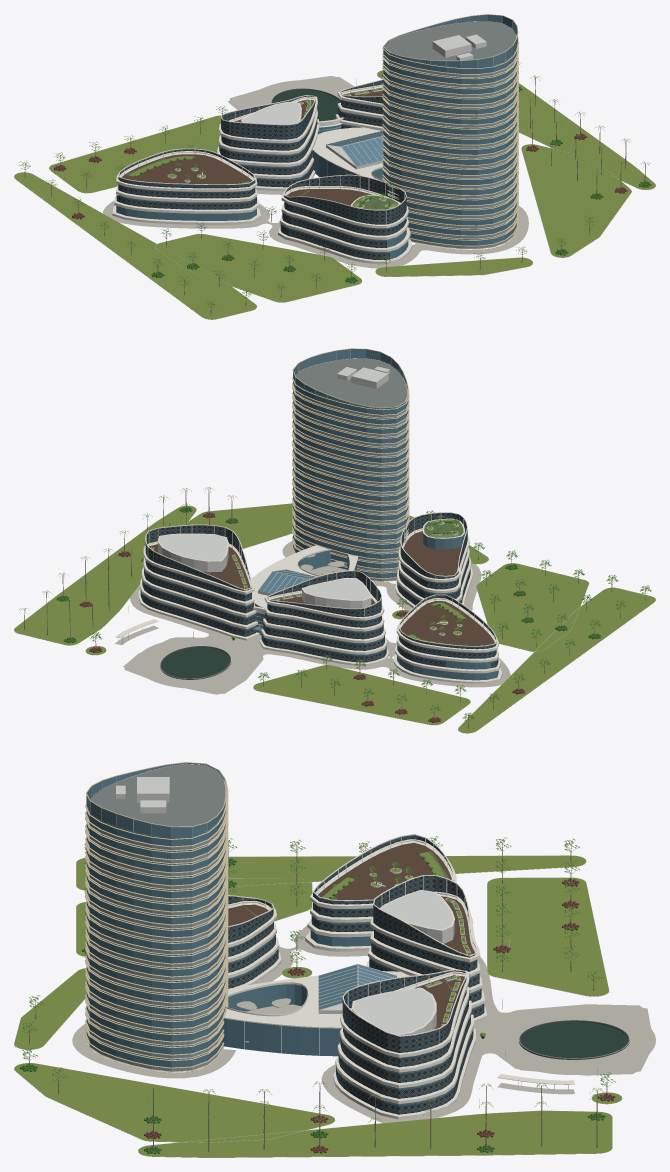
File: library-lod2.glb
The picture shows the model from 3 angles, top to bottom: view 1: azimuth 30°, elevation 25°; view 2: azimuth 150°, elevation 25°; view 3: azimuth 270°, elevation 25°; orthographic projection. The views are drawn at different scales.
Visible parts, largest first — view 1: Landscape connected lawns | landscape lawn.002, Tower horizontal fins | champagne fins.002, Tower glazing | blue grey glass light.002, Tower spandrel panels | grey spandrel.002, Tower glazing | blue grey glass.002, Landscape forecourt paving | warm limestone.002, Tower glazing | blue grey glass dark.002, Petal right-garden | warm ceramic.002, Tower roof | roof gravel.002, Petal rear-garden | warm ceramic.002, Petal rear-garden roof screen | distant baked screen, Petal rear-garden screen | distant baked screen (+25 smaller); view 2: Landscape connected lawns | landscape lawn.002, Tower horizontal fins | champagne fins.002, Landscape forecourt paving | warm limestone.002, Tower glazing | blue grey glass light.002, Tower glazing | blue grey glass.002, Tower spandrel panels | grey spandrel.002, Petal front-right screen | distant baked screen, Petal front-left screen | distant baked screen, Tower roof | roof gravel.002, Petal front-right | warm ceramic.002, Petal front-left | warm ceramic.002, Tower glazing | blue grey glass dark.002 (+29 smaller); view 3: Landscape connected lawns | landscape lawn.002, Tower horizontal fins | champagne fins.002, Landscape forecourt paving | warm limestone.002, Tower glazing | blue grey glass light.002, Tower spandrel panels | grey spandrel.002, Tower glazing | blue grey glass.002, Petal front-left | warm ceramic.002, Tower roof | roof gravel.002, Petal front-left screen | distant baked screen, Tower glazing | blue grey glass dark.002, Atrium | blue grey glass.002, Petal right-garden lower terrace | roof timber.002 (+31 smaller).
Part boxes in pixels (<box>): Landscape connected lawns | landscape lawn.002: <box>14,70,655,319</box>; Tower horizontal fins | champagne fins.002: <box>382,14,518,249</box>; Tower glazing | blue grey glass light.002: <box>383,14,517,245</box>; Tower spandrel panels | grey spandrel.002: <box>383,56,516,248</box>; Tower glazing | blue grey glass.002: <box>383,29,517,245</box>; Landscape forecourt paving | warm limestone.002: <box>103,76,528,268</box>; Tower glazing | blue grey glass dark.002: <box>383,49,517,241</box>; Petal right-garden | warm ceramic.002: <box>112,151,260,224</box>; Tower roof | roof gravel.002: <box>385,21,516,60</box>; Petal rear-garden | warm ceramic.002: <box>278,185,412,264</box>; Petal rear-garden roof screen | distant baked screen: <box>284,175,406,224</box>; Petal rear-garden screen | distant baked screen: <box>280,202,406,259</box>; Landscape connected lawns | landscape lawn.002: <box>14,503,655,733</box>; Tower horizontal fins | champagne fins.002: <box>292,348,409,581</box>; Landscape forecourt paving | warm limestone.002: <box>115,541,510,694</box>; Tower glazing | blue grey glass light.002: <box>293,349,408,578</box>; Tower glazing | blue grey glass.002: <box>293,365,408,578</box>; Tower spandrel panels | grey spandrel.002: <box>295,390,406,581</box>; Petal front-right screen | distant baked screen: <box>261,604,386,662</box>; Petal front-left screen | distant baked screen: <box>140,561,256,636</box>; Tower roof | roof gravel.002: <box>295,358,407,407</box>; Petal front-right | warm ceramic.002: <box>259,590,389,665</box>; Petal front-left | warm ceramic.002: <box>138,541,259,640</box>; Tower glazing | blue grey glass dark.002: <box>293,363,408,576</box>; Landscape connected lawns | landscape lawn.002: <box>14,855,621,1157</box>; Tower horizontal fins | champagne fins.002: <box>85,762,228,1072</box>; Landscape forecourt paving | warm limestone.002: <box>72,918,655,1122</box>; Tower glazing | blue grey glass light.002: <box>86,763,225,1067</box>; Tower spandrel panels | grey spandrel.002: <box>89,823,222,1071</box>; Tower glazing | blue grey glass.002: <box>86,765,225,1066</box>; Petal front-left | warm ceramic.002: <box>333,971,475,1119</box>; Tower roof | roof gravel.002: <box>90,764,225,826</box>; Petal front-left screen | distant baked screen: <box>336,990,473,1114</box>; Tower glazing | blue grey glass dark.002: <box>86,780,226,1067</box>; Atrium | blue grey glass.002: <box>223,984,341,1056</box>; Petal right-garden lower terrace | roof timber.002: <box>318,842,451,899</box>.
Bounding box in the file's own units: 218 × 84.14 × 197.
21 materials, 1 textured.
